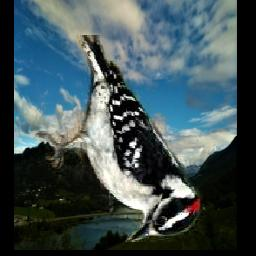Woodpecker: (32, 36, 202, 243)
